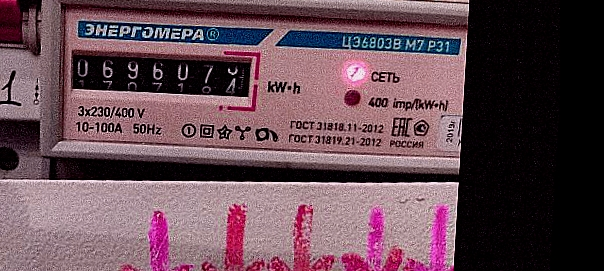0: (174, 59, 190, 82), (74, 56, 89, 78)
4: (223, 75, 237, 97)
6: (99, 57, 114, 79), (149, 60, 164, 80)
7: (199, 63, 215, 84)
9: (124, 58, 138, 80)
screen: (56, 38, 265, 109)
